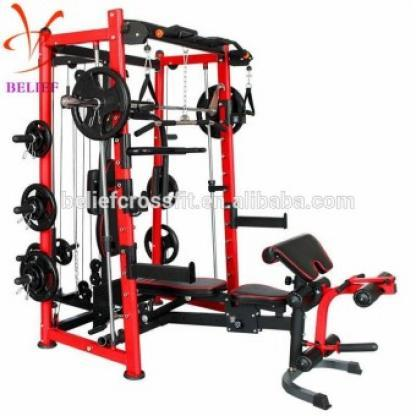smith machine: (63, 8, 255, 383)
